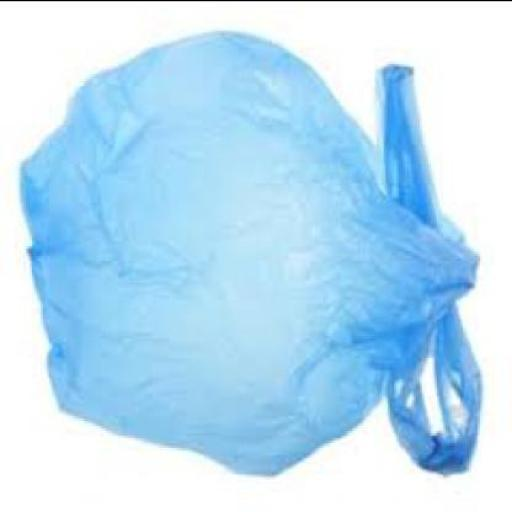plastic: (22, 32, 484, 480)
